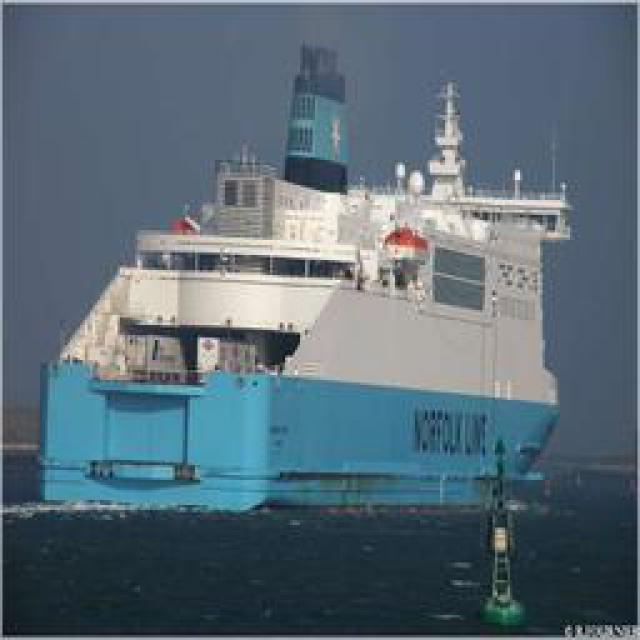Ship: (46, 56, 601, 521)
